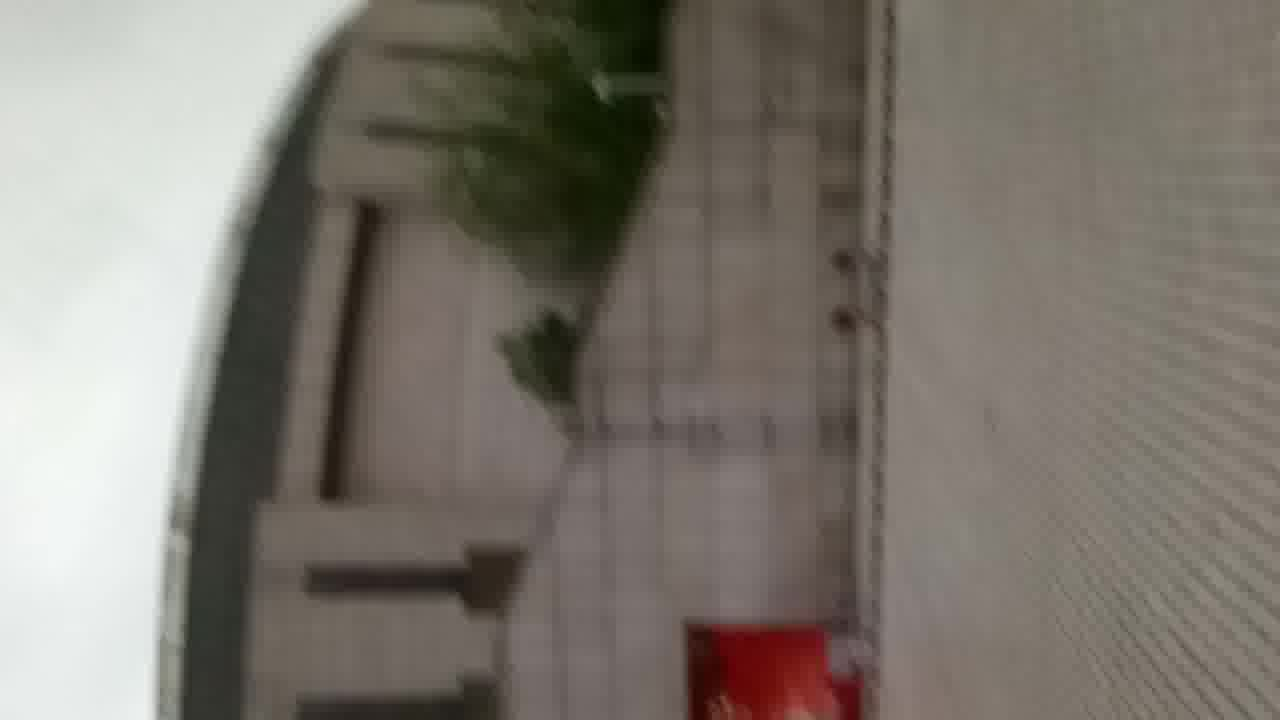zhongtiww: (122, 26, 908, 720)
